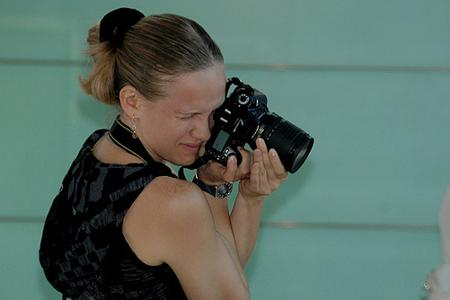person: (37, 8, 287, 299)
